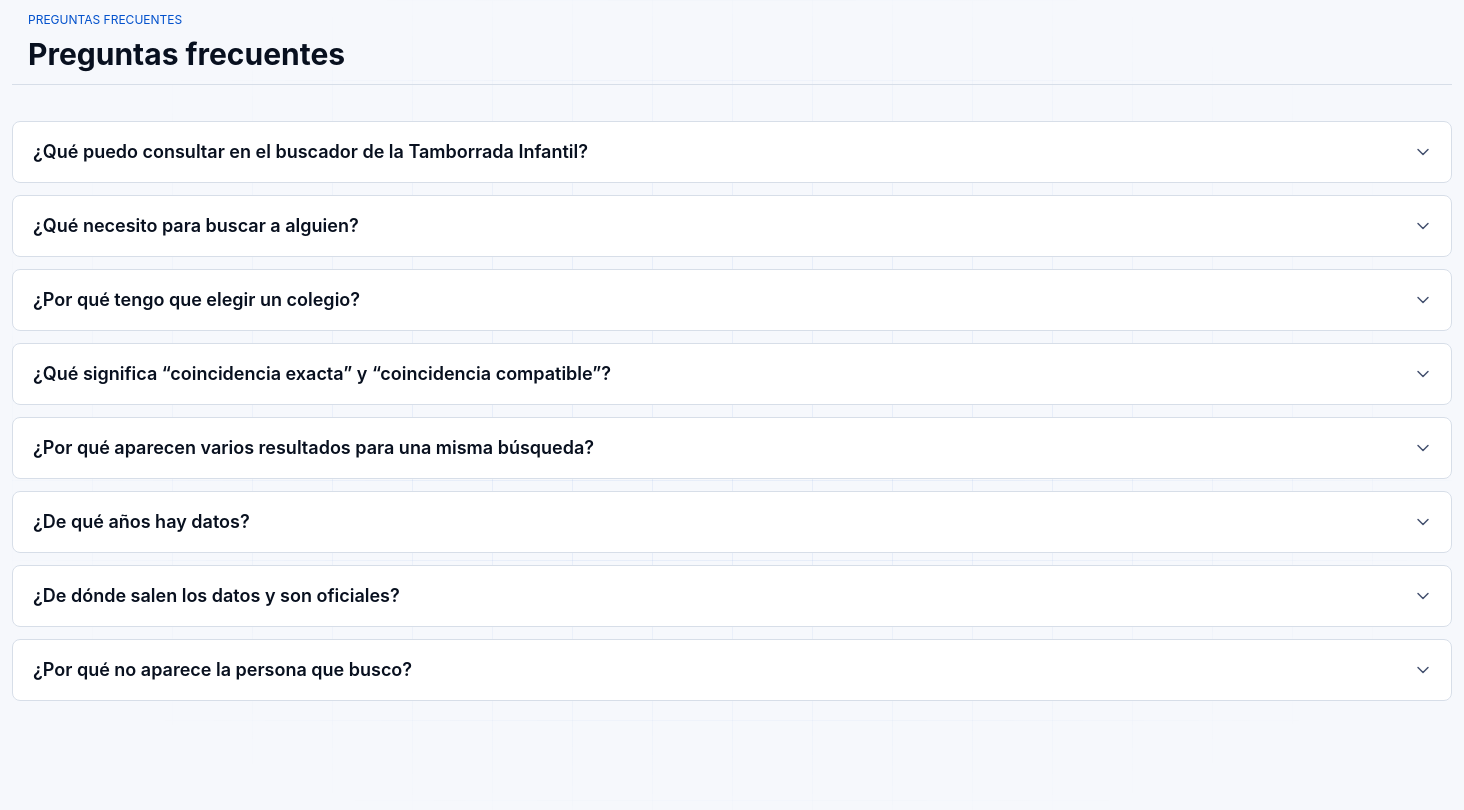
it: FAQSection › opens the years question and shows the figures of the global period
Click the button "¿De qué años hay datos?" at (141, 522), box x1=13 y1=492 x2=1451 y2=552
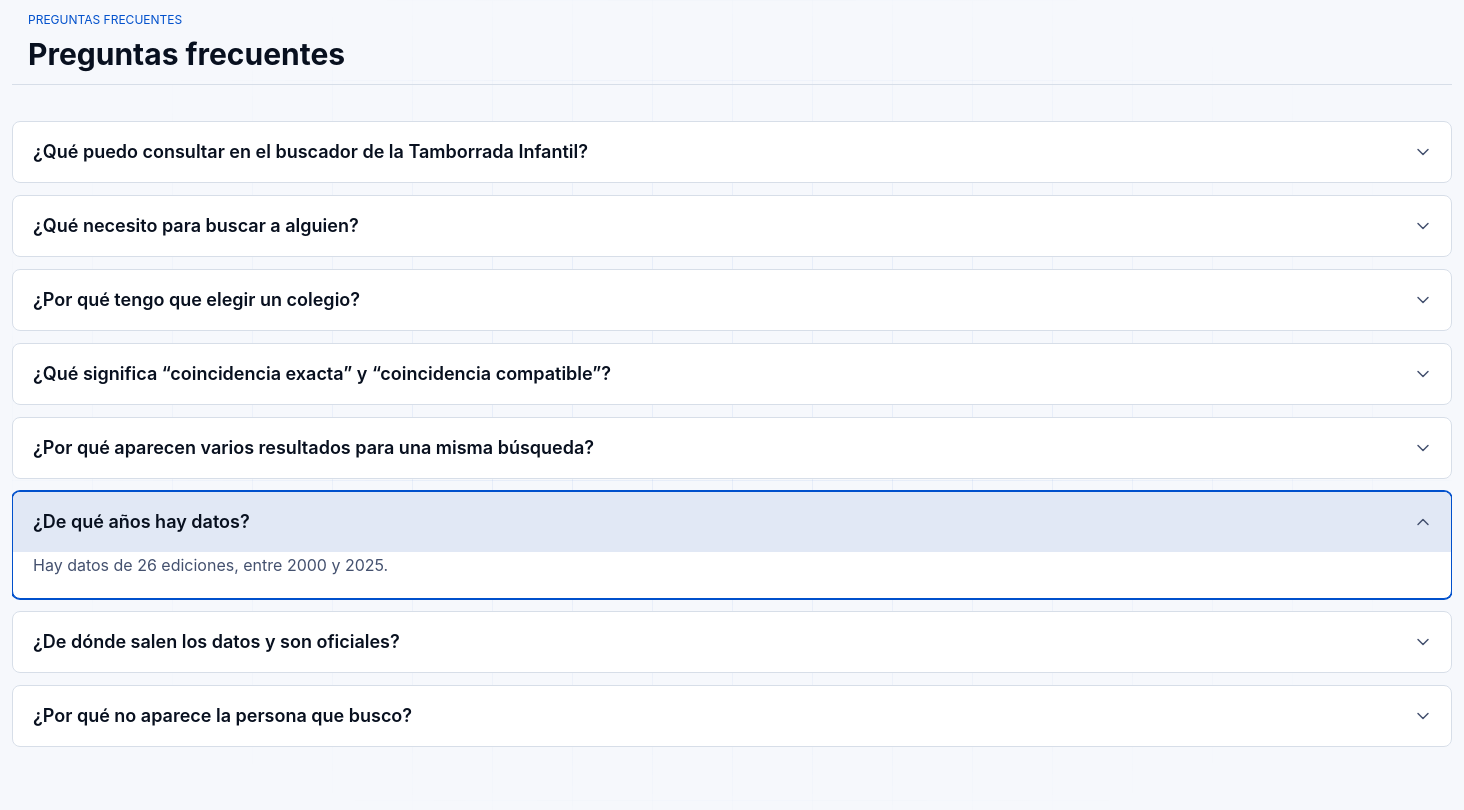
Result: the button "¿De qué años hay datos?" is expanded at x1=13 y1=492 x2=1451 y2=552
Result: the text "Hay datos de 26 ediciones, entre 2000 y 2025." is shown at x1=33 y1=555 x2=388 y2=575
